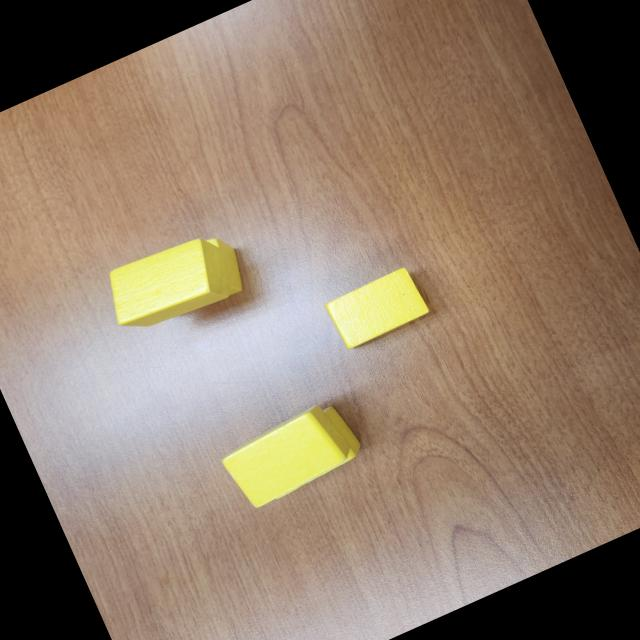yellow: (96, 226, 240, 344), (215, 398, 358, 514), (247, 401, 368, 502), (144, 229, 254, 324), (321, 263, 432, 352)
